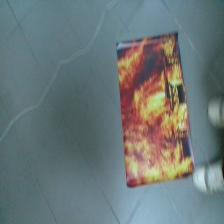fire-poster: (116, 33, 194, 187)
